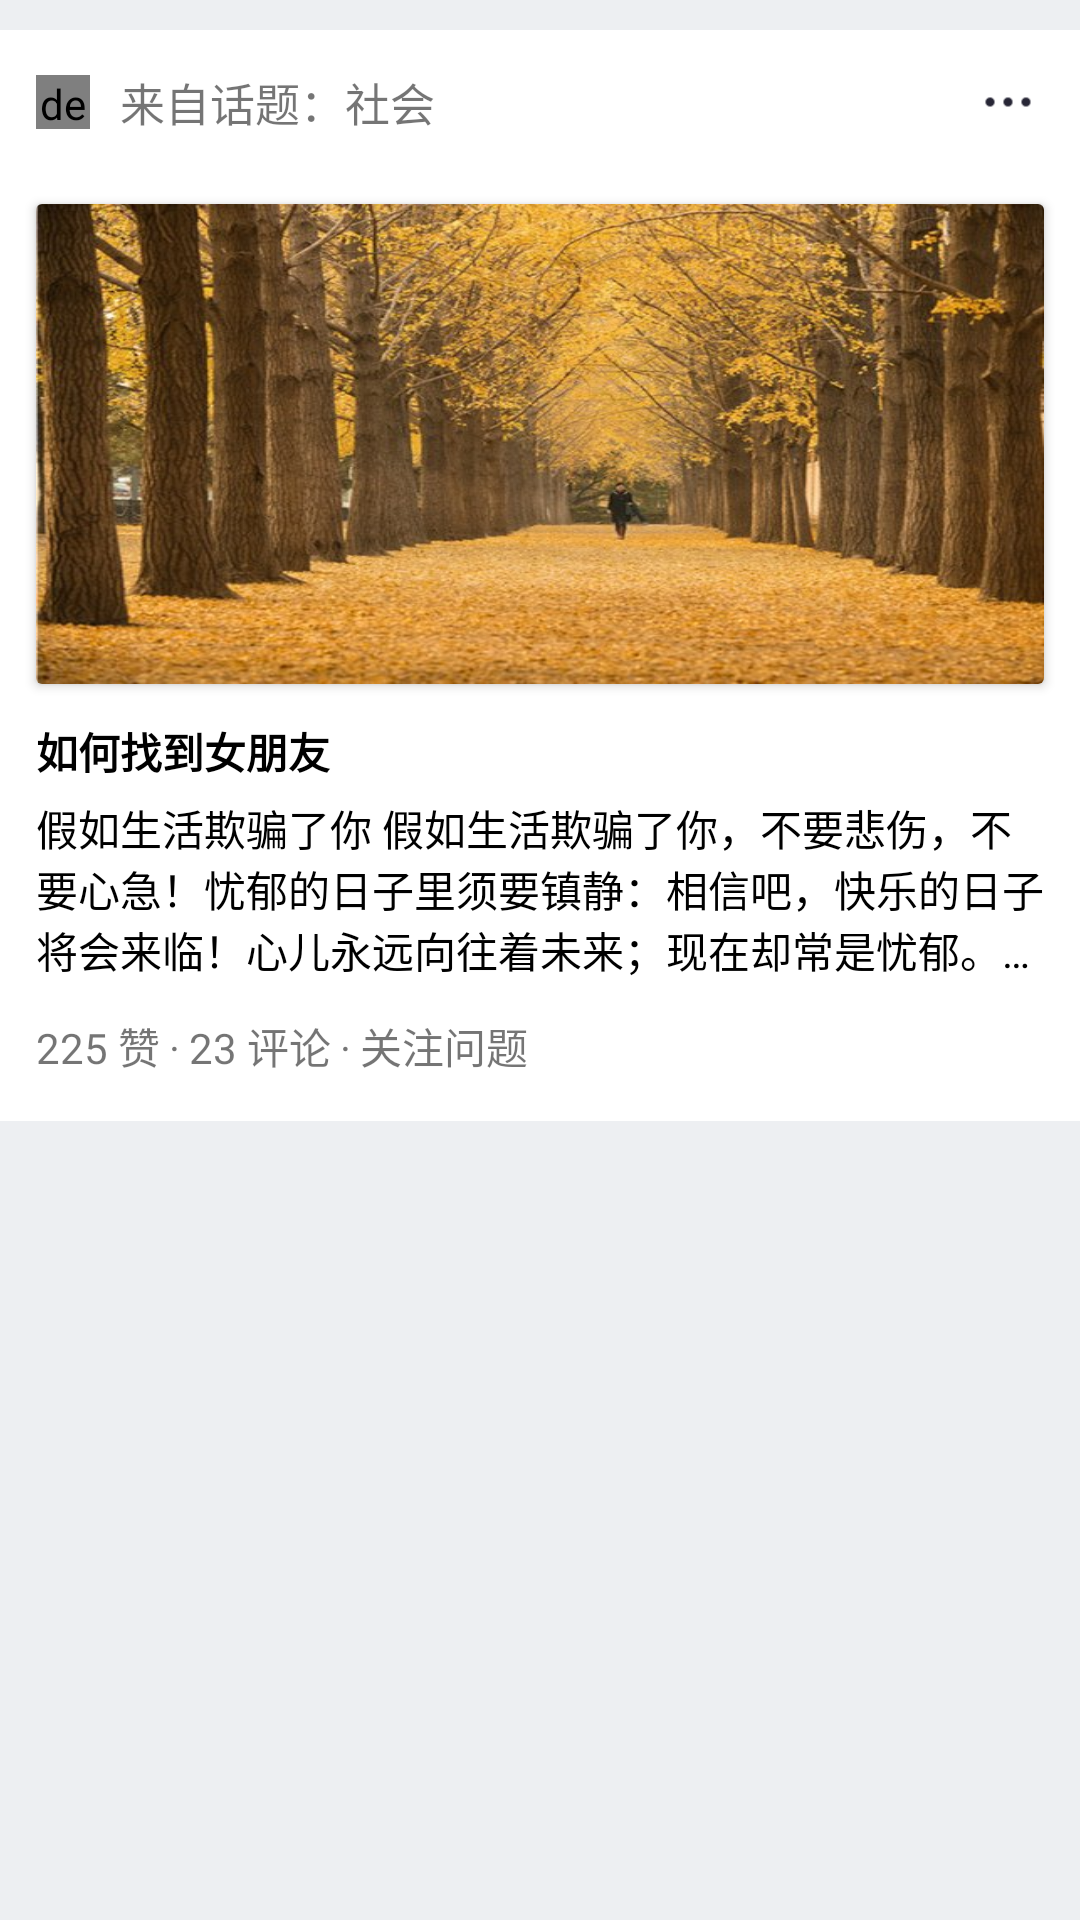

Icon bounding boxes for this 1080 x 1920 phone screenshot, format {"x1": x1, "y1": y1, "x2": x2, "y2": y2}:
more: {"x1": 985, "y1": 97, "x2": 1031, "y2": 107}
